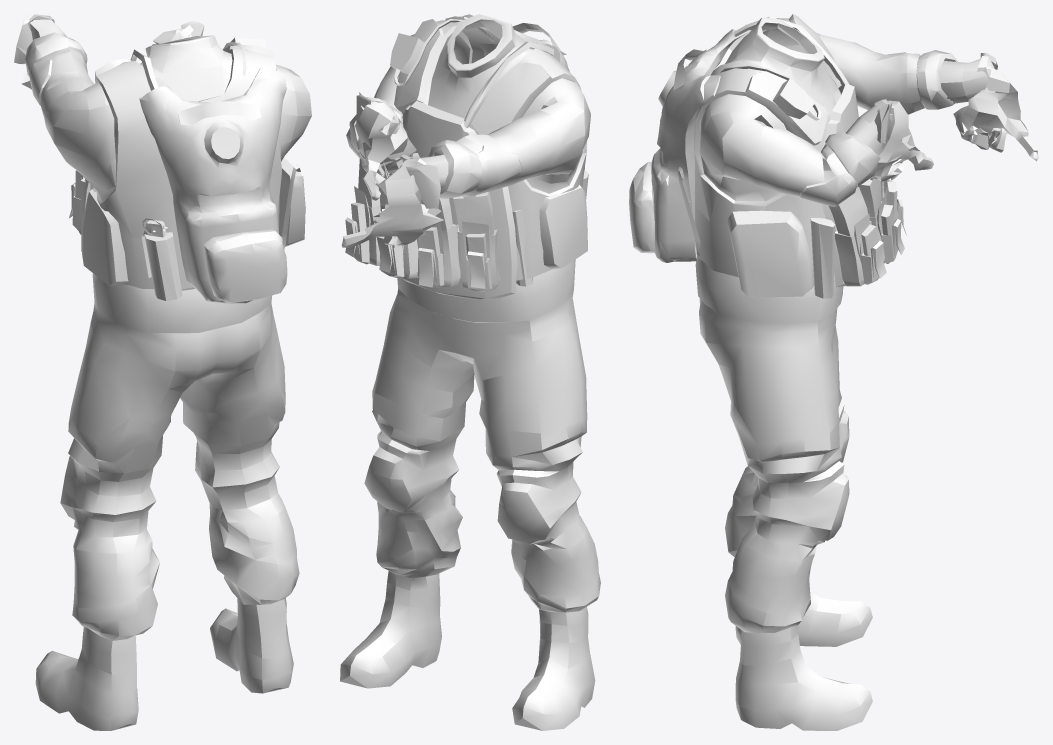
The model's file is stf_smg.glb.
The picture shows the model from 3 angles, left to right: view 1: azimuth 30°, elevation 25°; view 2: azimuth 150°, elevation 25°; view 3: azimuth 270°, elevation 25°; orthographic projection.
Visible parts, largest first — view 1: body_STF, gear_STF; view 2: body_STF, gear_STF; view 3: body_STF, gear_STF.
Part boxes in pixels (left/top/right/bottom): body_STF: left=14, top=14, right=311, bottom=730; gear_STF: left=69, top=37, right=305, bottom=303; body_STF: left=340, top=14, right=600, bottom=730; gear_STF: left=345, top=14, right=588, bottom=291; body_STF: left=688, top=14, right=1038, bottom=730; gear_STF: left=629, top=16, right=906, bottom=298.
Bounding box in the file's own units: 58.3 × 164 × 93.05.
Materials: 2 (2 with a texture image).
